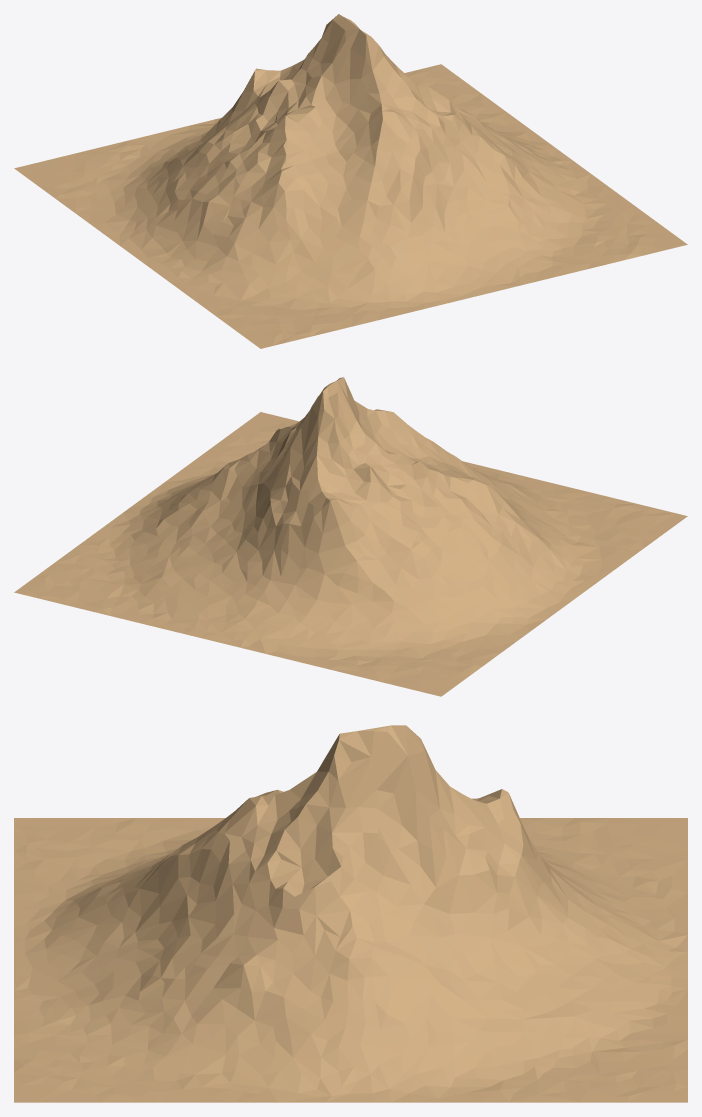
Rendered from MT_Terrain_L_f_05.fbx.
The picture shows the model from 3 angles, top to bottom: view 1: azimuth 30°, elevation 25°; view 2: azimuth 150°, elevation 25°; view 3: azimuth 270°, elevation 25°; orthographic projection. The views are drawn at different scales.
Visible parts, largest first — view 1: MT_Terrain_L_f_05; view 2: MT_Terrain_L_f_05; view 3: MT_Terrain_L_f_05.
Part boxes in pixels (<box>): MT_Terrain_L_f_05: <box>14,14,687,348</box>; MT_Terrain_L_f_05: <box>14,377,687,696</box>; MT_Terrain_L_f_05: <box>14,725,687,1102</box>.
Size of the model in its own units: 10000 by 3946 by 10000.
